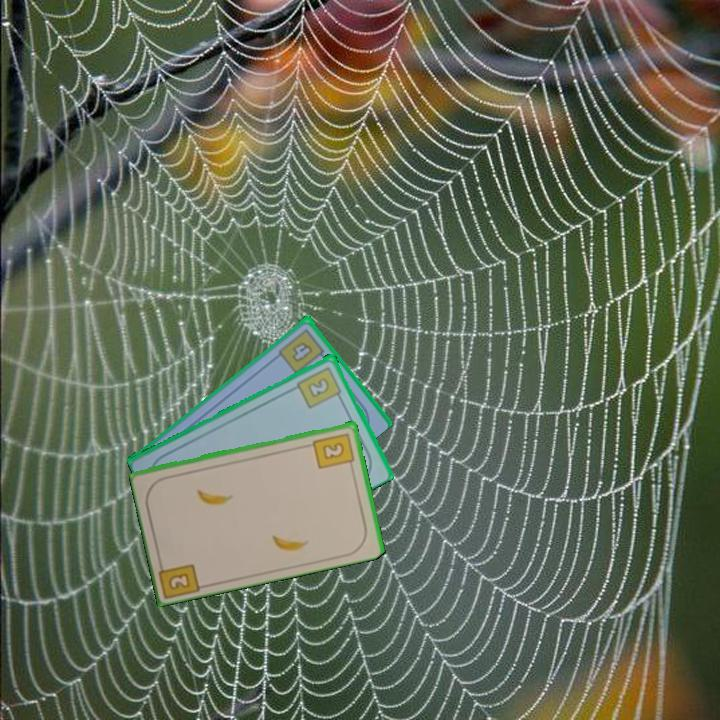2b: (294, 362, 345, 411), (155, 555, 204, 599), (310, 429, 357, 472)
4b: (275, 325, 329, 376)
